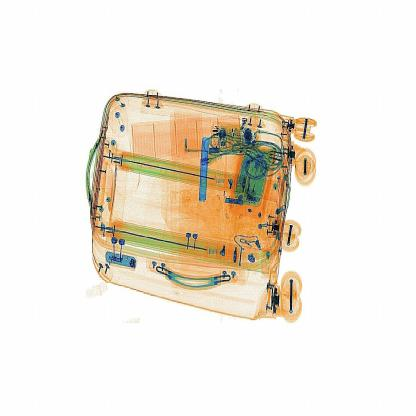pliers: (192, 130, 219, 211)
